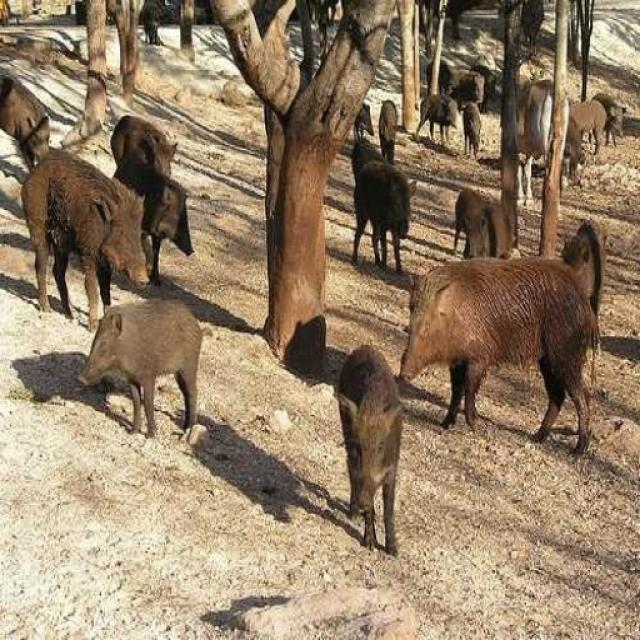pig: (393, 225, 640, 476), (39, 302, 228, 453), (319, 336, 436, 566), (18, 152, 164, 304), (86, 118, 212, 203), (324, 164, 429, 254), (137, 180, 225, 258), (0, 82, 70, 153)
